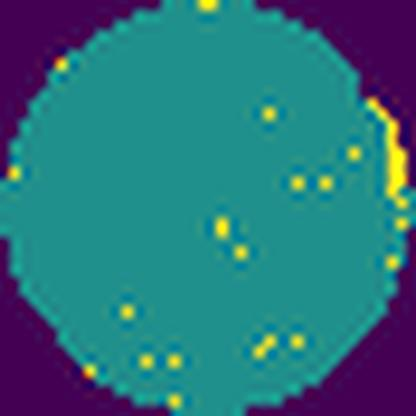Edge-Loc: (362, 99, 414, 213)
